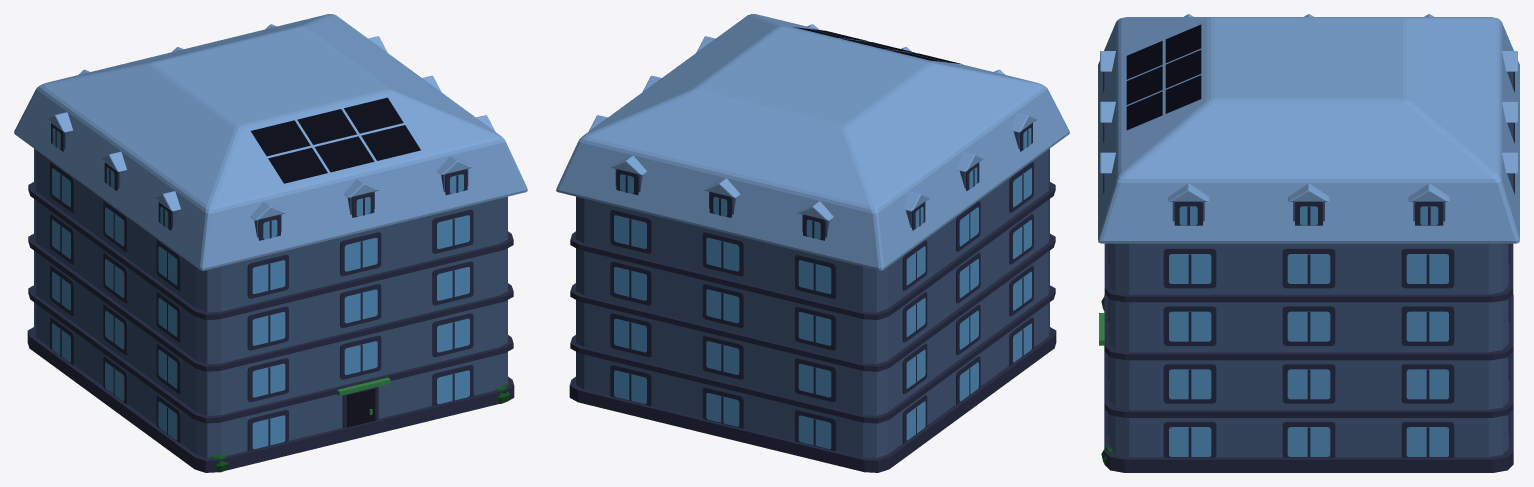
File: house-2x2-4f-mansard-b-solar.glb
3 views of the same model, side by side, from view 1: azimuth 30°, elevation 25°; view 2: azimuth 150°, elevation 25°; view 3: azimuth 270°, elevation 25° (orthographic). The views are drawn at different scales.
Visible parts, largest first — view 1: house-2x2-4f-mansard-b-solar; view 2: house-2x2-4f-mansard-b-solar; view 3: house-2x2-4f-mansard-b-solar.
Boxes of the visible parts, x1=… form: house-2x2-4f-mansard-b-solar: x1=14, y1=14, x2=527, y2=472; house-2x2-4f-mansard-b-solar: x1=556, y1=14, x2=1069, y2=472; house-2x2-4f-mansard-b-solar: x1=1098, y1=14, x2=1519, y2=472.
Size of the model in its own units: 1.99 by 1.71 by 1.99.
1 material, 1 textured.
